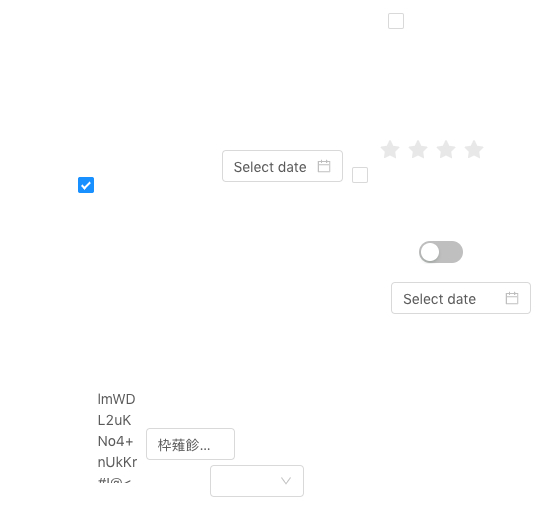Checkbox: (352, 164, 368, 185), (78, 174, 94, 195), (388, 10, 404, 31)
DatePicker: (391, 282, 531, 314), (222, 150, 343, 182)
Input: (146, 428, 235, 460)
Rate: (380, 133, 500, 165)
Select: (210, 465, 304, 497)
Switch: (419, 240, 463, 264)
Text: (98, 388, 139, 483)
